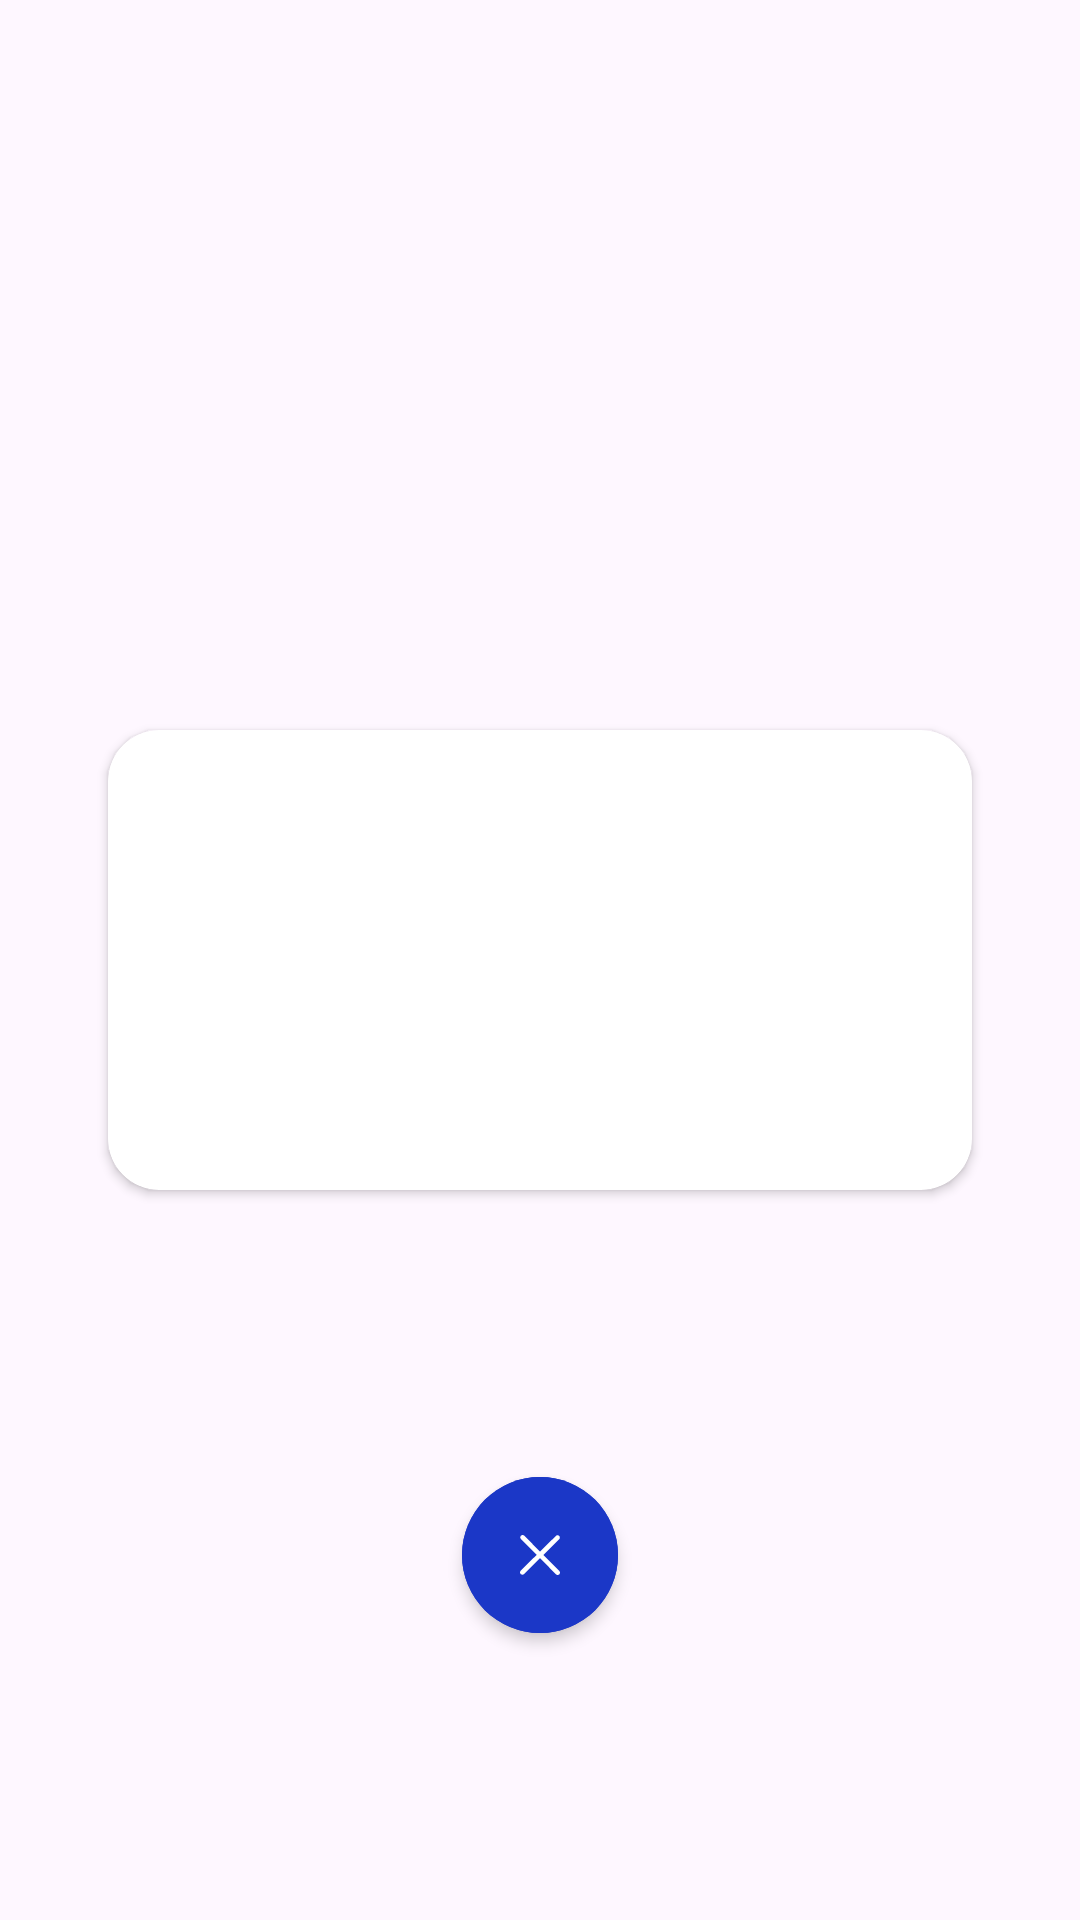

Icons on this 1080×1920 Android screen, each with its box as box=[x1, y1, x2, y2]:
close: box=[462, 1477, 618, 1640]
